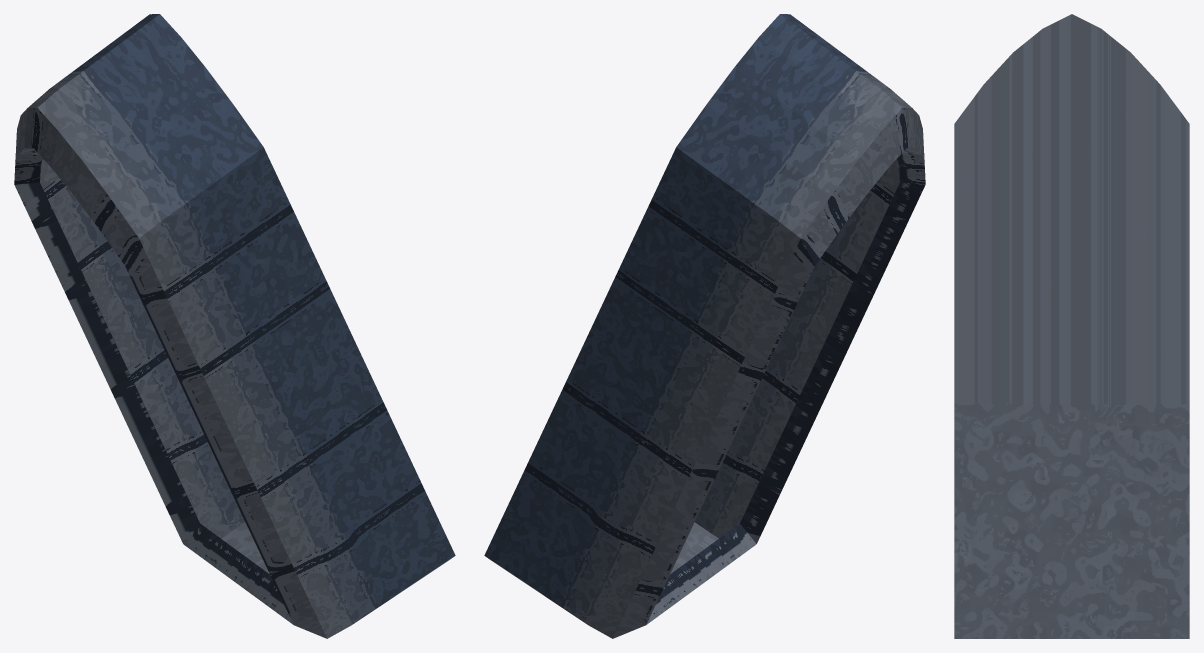
The model's file is window_manor_main_frame.fbx.
The picture shows the model from 3 angles, left to right: view 1: azimuth 30°, elevation 25°; view 2: azimuth 150°, elevation 25°; view 3: azimuth 270°, elevation 25°; orthographic projection. The views are drawn at different scales.
Parts seen in each view (by area): view 1: Cube.001; view 2: Cube.001; view 3: Cube.001.
Boxes of the visible parts, bbox=[...] form: Cube.001: bbox=[14, 14, 455, 638]; Cube.001: bbox=[484, 14, 925, 638]; Cube.001: bbox=[954, 14, 1189, 638].
Bounding box in the file's own units: 722 × 1163 × 437.
